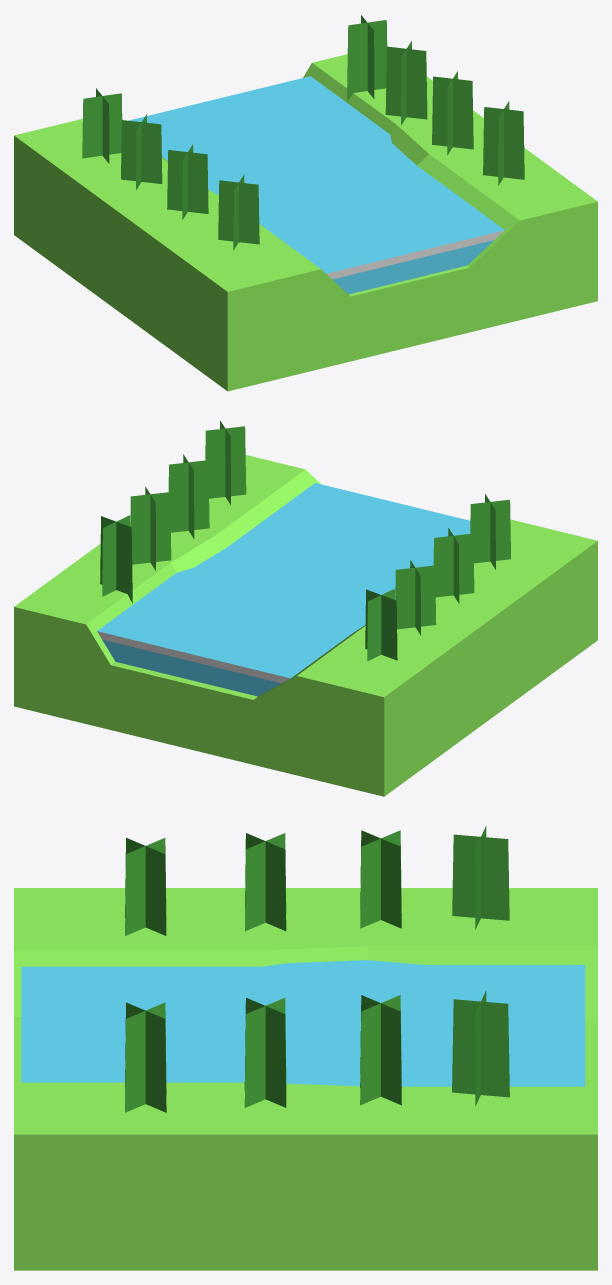
Rendered from 3d_icons_water.fbx.
3 views of the same model, one above another, from view 1: azimuth 30°, elevation 25°; view 2: azimuth 150°, elevation 25°; view 3: azimuth 270°, elevation 25° (orthographic). The views are drawn at different scales.
Visible parts, largest first — view 1: water; view 2: water; view 3: water.
Boxes of the visible parts, box(x1,y1,x2,y2) form: water: box(14, 15, 597, 391); water: box(14, 421, 597, 796); water: box(14, 826, 597, 1270).
Size of the model in its own units: 200 by 86.72 by 200.
